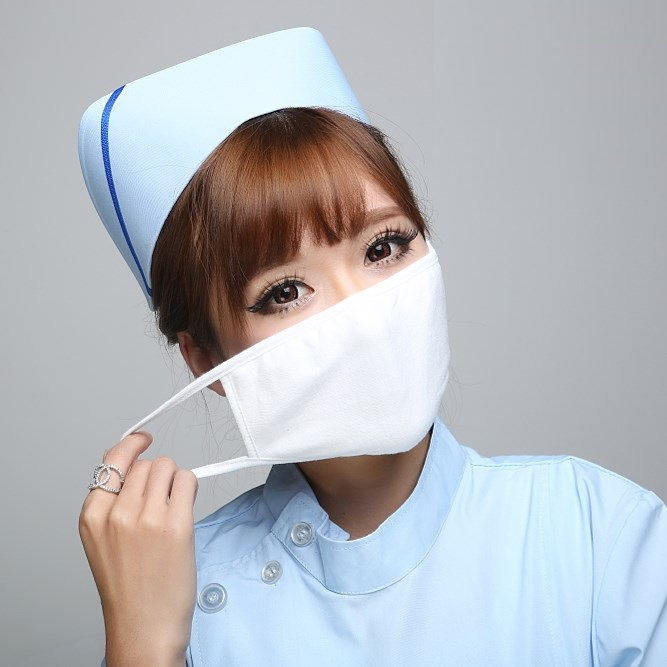face_mask: (230, 154, 451, 465)
